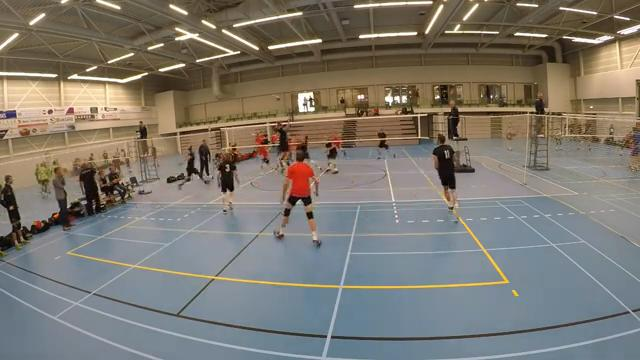alzata: (292, 131, 314, 160)
